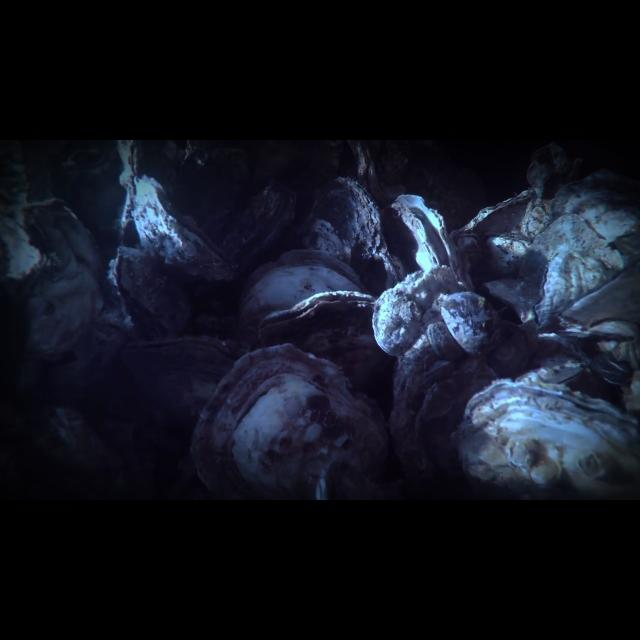Oyster-Closed: (183, 343, 397, 493), (448, 376, 637, 500), (390, 330, 504, 500), (235, 244, 382, 339), (123, 170, 238, 282), (255, 289, 389, 384), (303, 176, 404, 287), (121, 334, 240, 425), (370, 262, 471, 358), (105, 241, 201, 337), (530, 244, 626, 329), (438, 290, 509, 357), (450, 190, 535, 235), (424, 319, 468, 365), (512, 361, 586, 386)
Oyster-Open: (384, 189, 464, 282)
